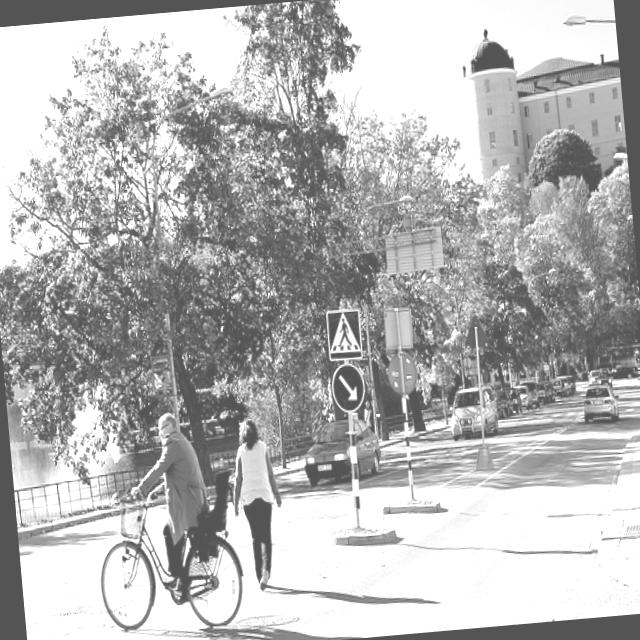Vehicle: (300, 414, 385, 488), (446, 384, 500, 442), (580, 384, 620, 425), (520, 380, 540, 410), (512, 384, 532, 412), (551, 374, 576, 396), (495, 390, 514, 418), (505, 387, 523, 415), (536, 380, 554, 402), (586, 368, 604, 385)
